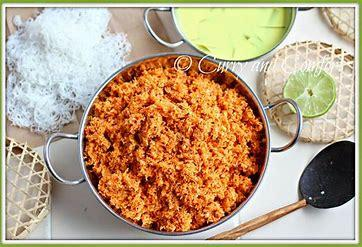Pol Sambol: (122, 61, 244, 224)
String Hoppers: (12, 13, 98, 102)
